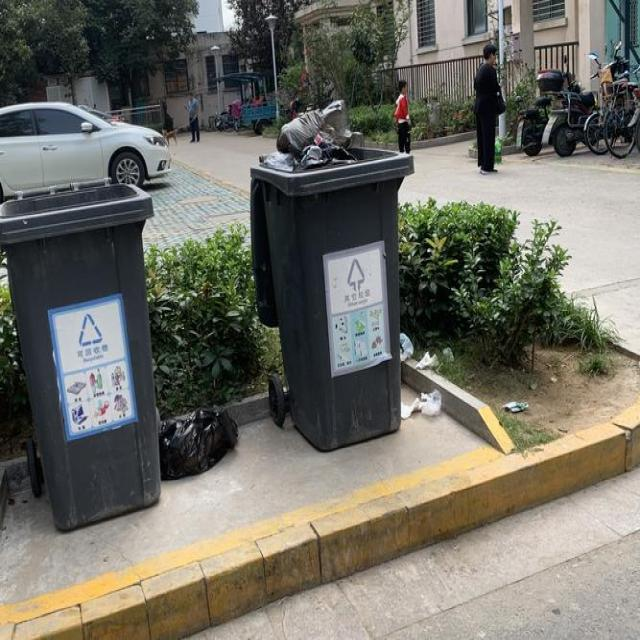garbage: (160, 407, 236, 480), (399, 331, 454, 420)
garbage_bin: (0, 174, 161, 533)
overflow: (252, 102, 412, 452)
